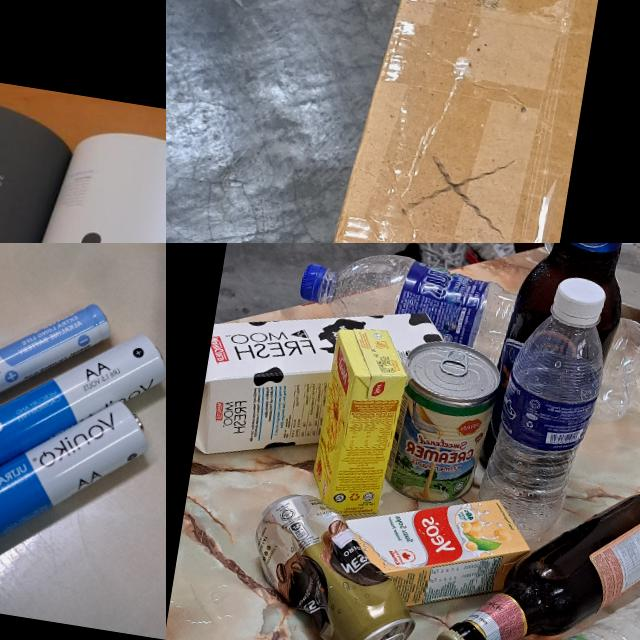aba de lata: (439, 348, 471, 378), (372, 628, 407, 640)
bateria: (0, 376, 155, 580), (0, 310, 166, 487), (0, 284, 117, 428)
caixinha: (194, 278, 448, 488), (334, 478, 538, 624), (306, 322, 412, 520)
garrafa de vidro: (476, 243, 640, 490), (430, 464, 640, 640)
garrafa plástica: (472, 312, 610, 548), (312, 243, 521, 364), (470, 571, 640, 640)
lata: (236, 490, 431, 640), (384, 337, 504, 510)
papel: (0, 61, 166, 243)
papelão: (292, 0, 617, 243)
tampa plástica: (552, 274, 609, 323), (297, 262, 323, 302)
